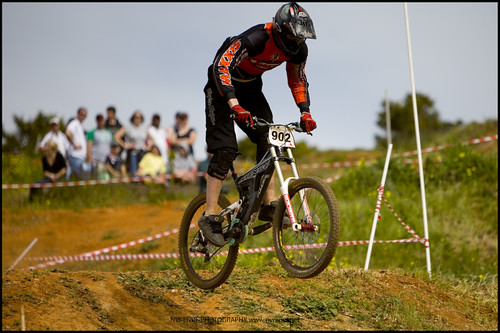helmet: (267, 4, 312, 54)
